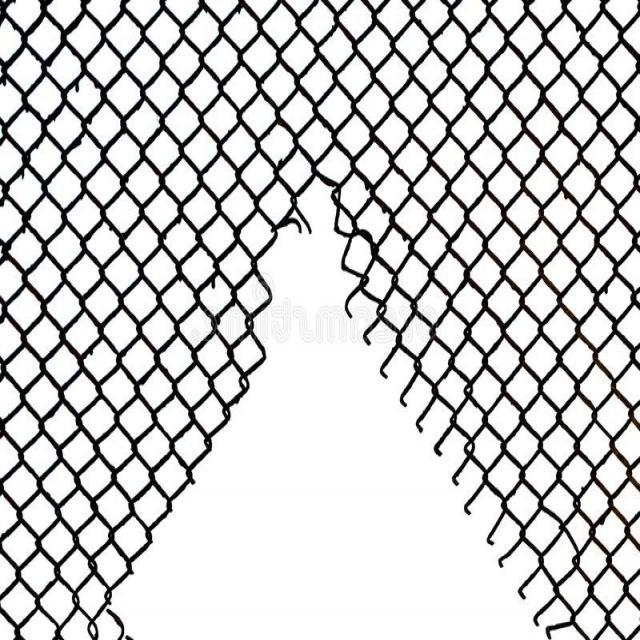fence line: (121, 231, 545, 629)
